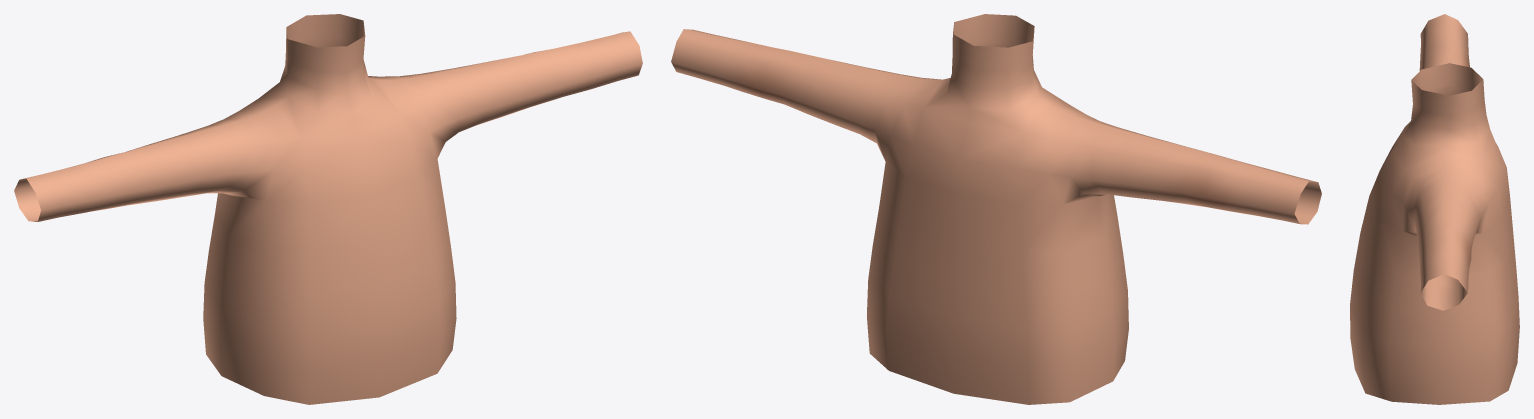
File: Body_Yellow_Top_2.fbx
3 views of the same model, side by side, from view 1: azimuth 30°, elevation 25°; view 2: azimuth 150°, elevation 25°; view 3: azimuth 270°, elevation 25° (orthographic). The views are drawn at different scales.
Visible parts, largest first — view 1: Body_Yellow_Top_2; view 2: Body_Yellow_Top_2; view 3: Body_Yellow_Top_2.
Boxes of the visible parts, x1=… form: Body_Yellow_Top_2: x1=14, y1=14, x2=642, y2=404; Body_Yellow_Top_2: x1=671, y1=14, x2=1321, y2=404; Body_Yellow_Top_2: x1=1350, y1=14, x2=1519, y2=404.
Size of the model in its own units: 95.86 by 49.84 by 26.46.
